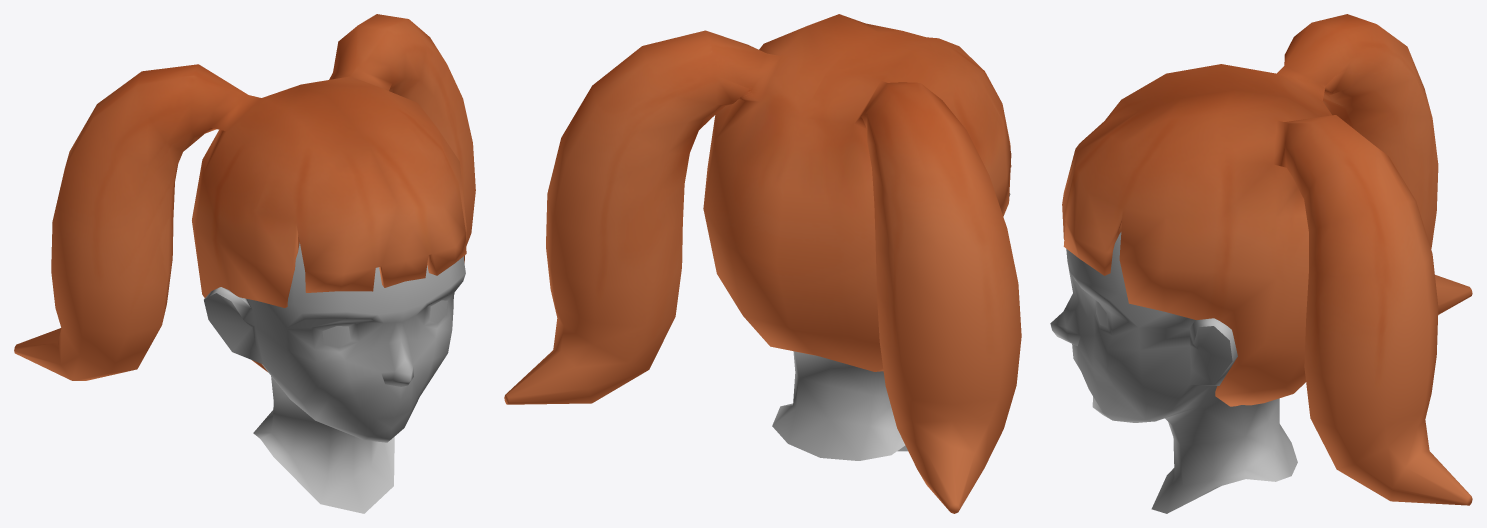
Rendered from doki-pigtails.glb.
3 views of the same model, side by side, from view 1: azimuth 30°, elevation 25°; view 2: azimuth 150°, elevation 25°; view 3: azimuth 270°, elevation 25° (orthographic). The views are drawn at different scales.
Visible parts, largest first — view 1: Pigtails, Head_BaseMesh; view 2: Pigtails, Head_BaseMesh; view 3: Pigtails, Head_BaseMesh.
Boxes of the visible parts, x1,y1,x2,y2 form: Pigtails: [14, 14, 475, 380]; Head_BaseMesh: [204, 242, 465, 513]; Pigtails: [504, 14, 1021, 513]; Head_BaseMesh: [772, 193, 1010, 460]; Pigtails: [1062, 14, 1472, 505]; Head_BaseMesh: [1050, 232, 1297, 513].
Size of the model in its own units: 1.01 by 0.9585 by 0.8406.
Materials: 2 (2 with a texture image).
